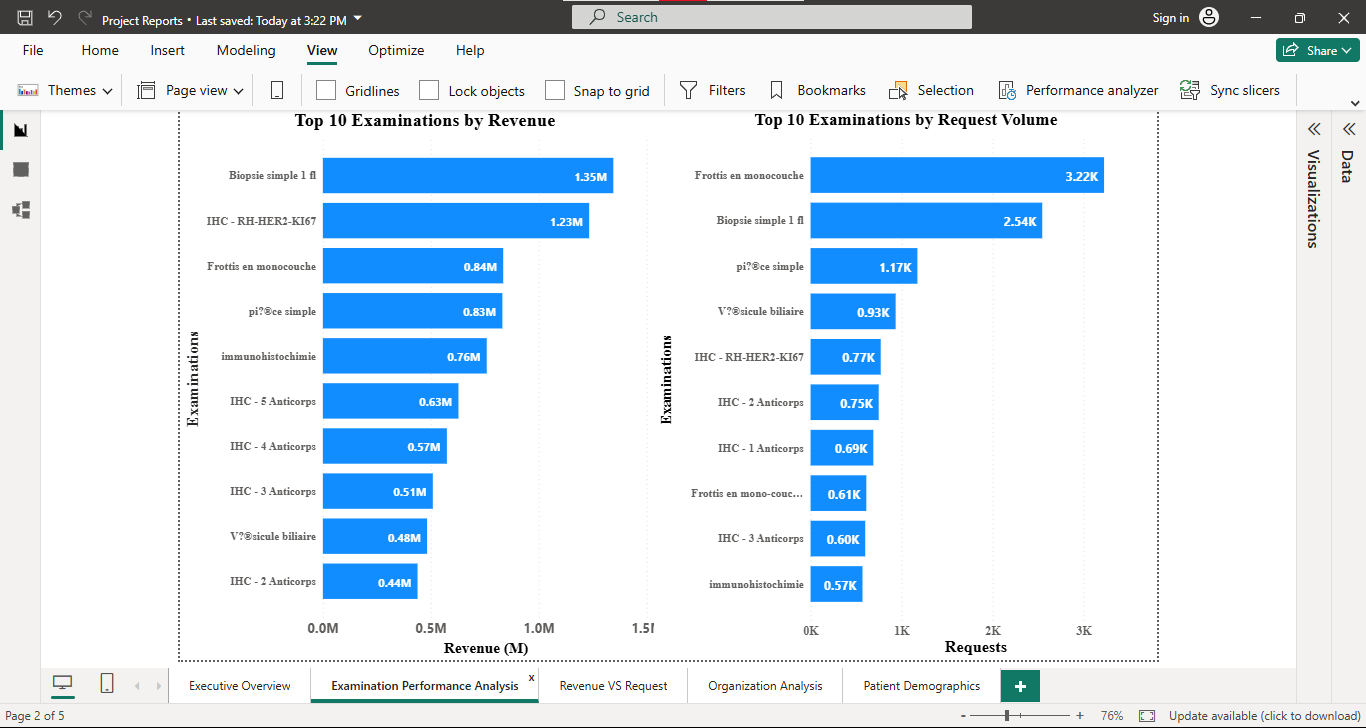

Layout of this report page (visuals, bound fields, positions):
{"tool":"powerbi","page":{"name":"Examination Performance Analysis","canvas":[1280,720],"ordinal":1},"visuals":[{"type":"clusteredBarChart","title":"Top 10 Examinations by Revenue","fields":{"Category":["Bi Db Datamarts.Exam Designation"],"Y":["Sum(Bi Db Datamarts.CA)"]},"box":[0,0,640.7,719.5],"z":0},{"type":"clusteredBarChart","title":"Top 10 Examinations by Request Volume","fields":{"Category":["Bi Db Datamarts.Exam Designation"],"Y":["Sum(Bi Db Datamarts.Nbr Demande)"]},"box":[620.3,0,659.7,719.5],"z":1000}]}

Visuals, with their boxes on the page's 1280x720 design canvas (x1, y1, x2, y2). These are canvas units, not pixel positions in the 1366x728 screenshot, which may show the page scaled, cropped or inside an application window:
"Top 10 Examinations by Revenue" clusteredBarChart: rect(0, 0, 641, 720)
"Top 10 Examinations by Request Volume" clusteredBarChart: rect(620, 0, 1280, 720)
